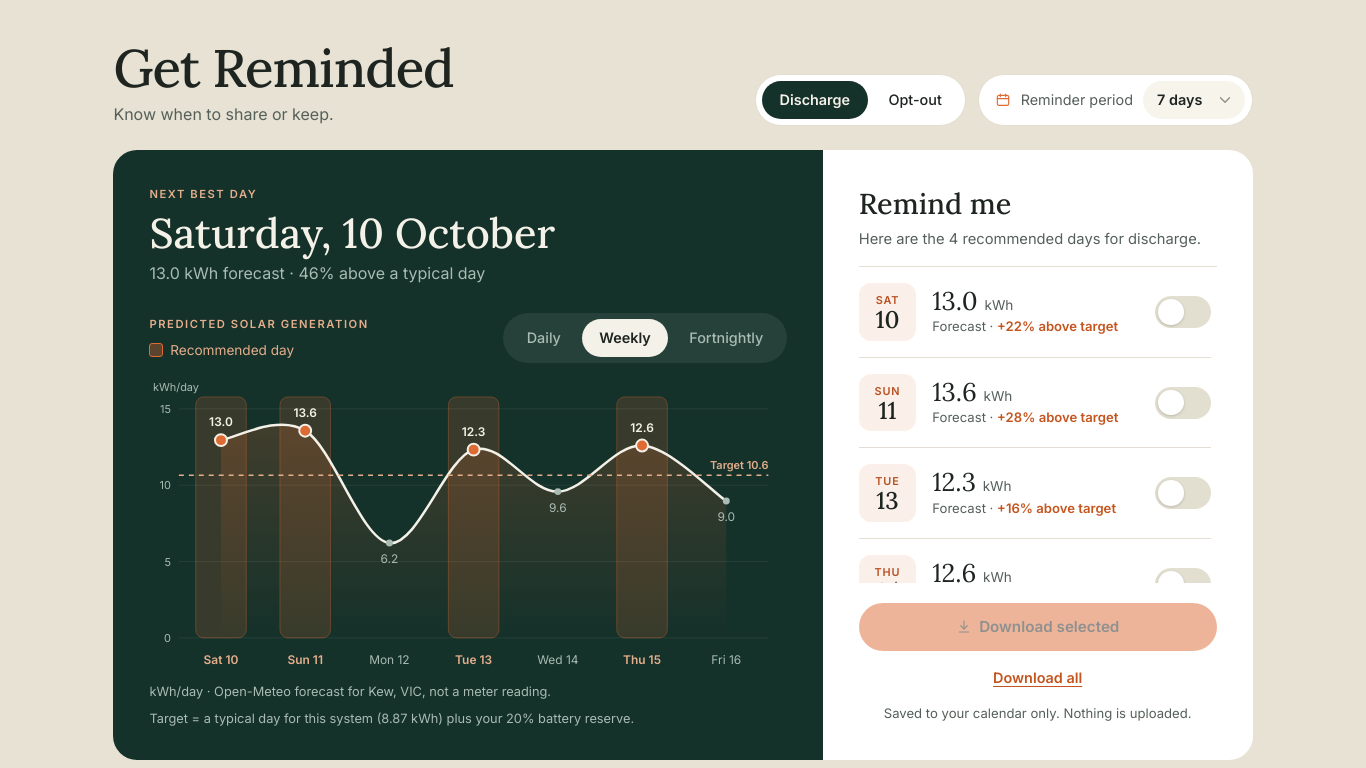
Test case: Get Reminded page › downloads every recommended day with Download all, without selecting any
The width and height of the screenshot is (1366, 768).
Expected: the heading "Remind me" is shown, [859, 185, 1011, 222]
Click the button "Download all".
click(1038, 677)  # box [989, 663, 1086, 692]
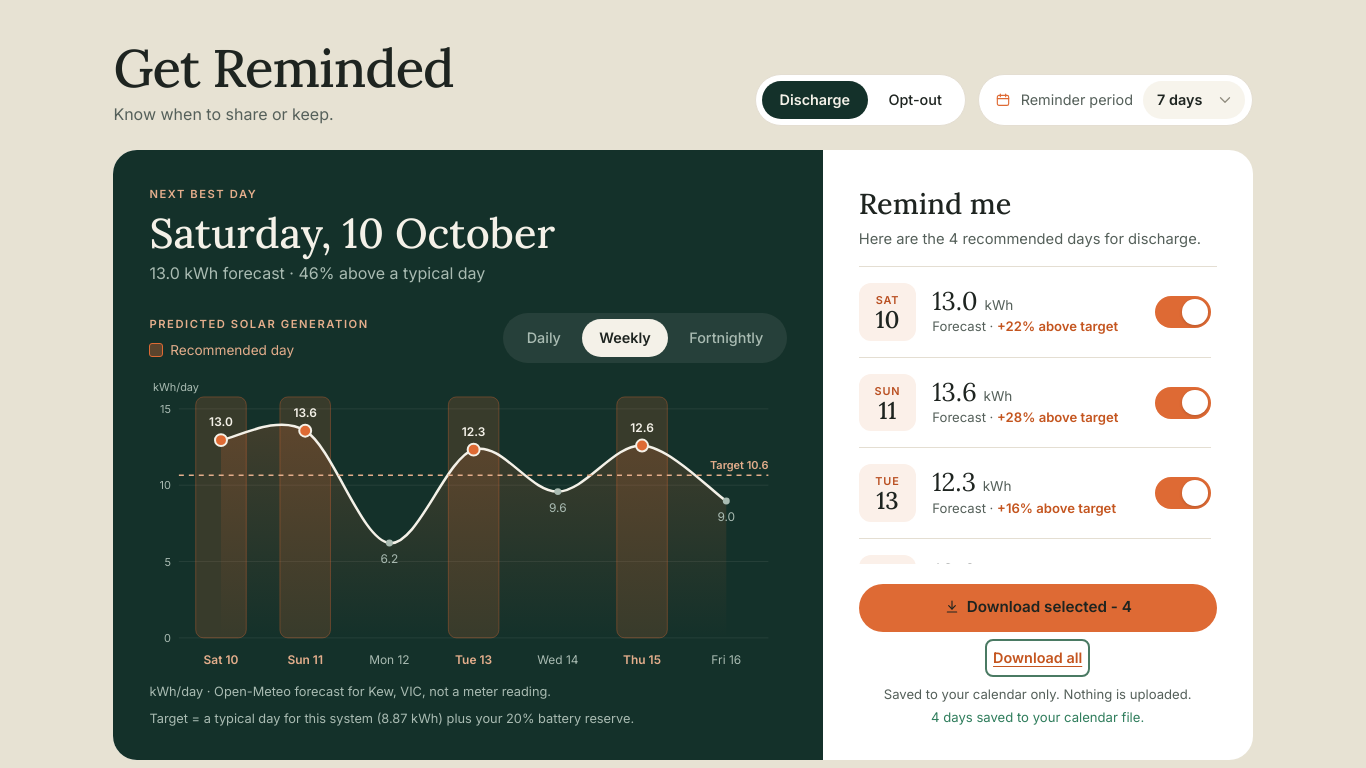
Now the text "4 days saved to your calendar file." is shown, box [931, 709, 1144, 725]
